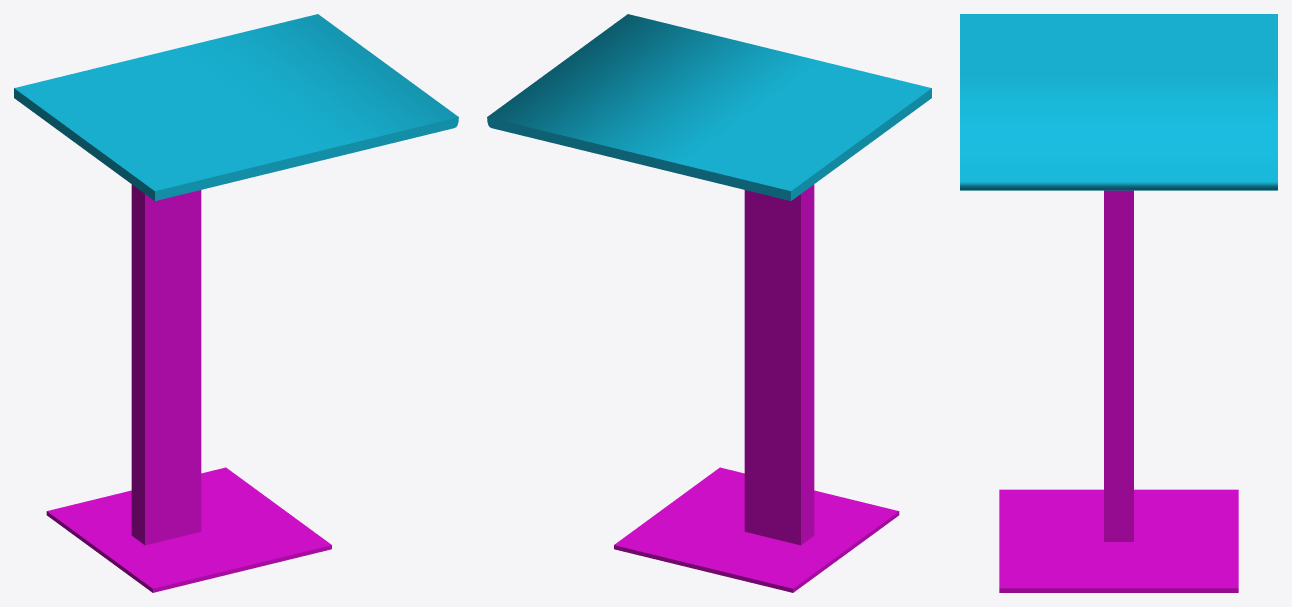
Rendered from Table_Midium_Low.fbx.
The picture shows the model from 3 angles, left to right: view 1: azimuth 30°, elevation 25°; view 2: azimuth 150°, elevation 25°; view 3: azimuth 270°, elevation 25°; orthographic projection. The views are drawn at different scales.
Visible parts, largest first — view 1: Table_Midium_Low; view 2: Table_Midium_Low; view 3: Table_Midium_Low.
Boxes of the visible parts, bbox=[...] form: Table_Midium_Low: bbox=[14, 14, 458, 592]; Table_Midium_Low: bbox=[487, 14, 931, 592]; Table_Midium_Low: bbox=[960, 14, 1277, 592].
Bounding box in the file's own units: 68.37 × 89.88 × 54.86.
